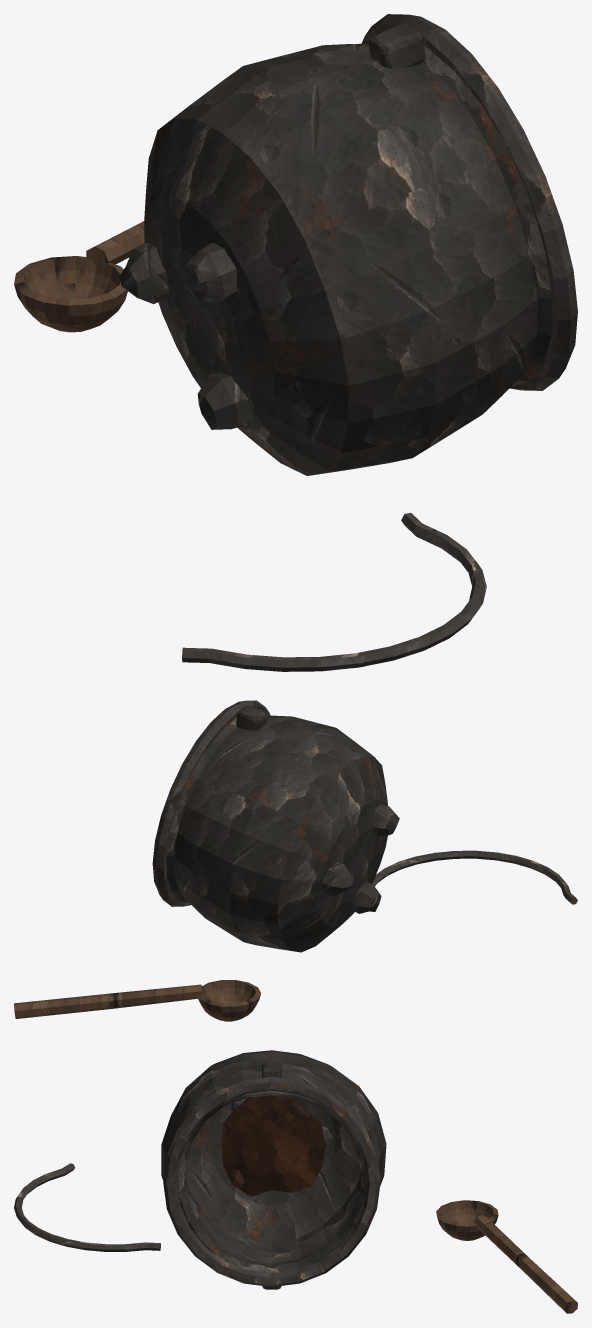
File: junk_cookpot_tipped.glb
3 views of the same model, one above another, from view 1: azimuth 30°, elevation 25°; view 2: azimuth 150°, elevation 25°; view 3: azimuth 270°, elevation 25° (orthographic). The views are drawn at different scales.
Visible parts, largest first — view 1: model; view 2: model; view 3: model.
Part boxes in pixels (bbox=[...]): model: bbox=[14, 14, 577, 671]; model: bbox=[14, 700, 577, 1021]; model: bbox=[14, 1050, 577, 1313].
Size of the model in its own units: 0.5327 by 0.3696 by 0.8658.
6 materials, 6 textured.
